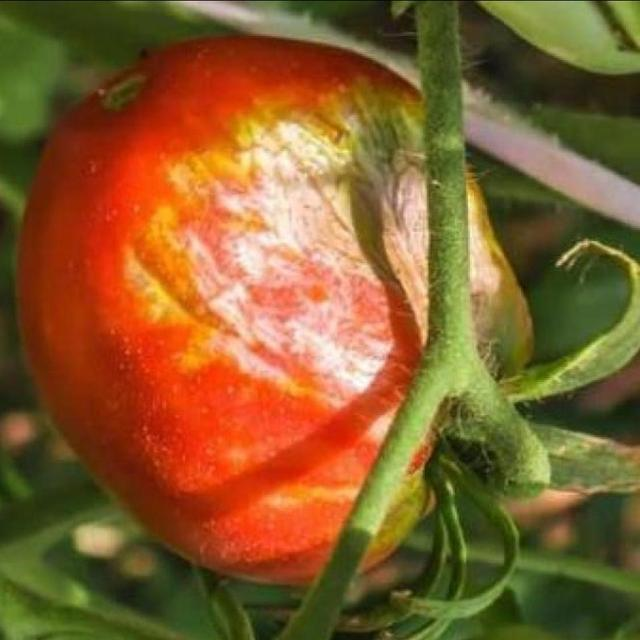Sunscald Fruit: (102, 58, 322, 298)
